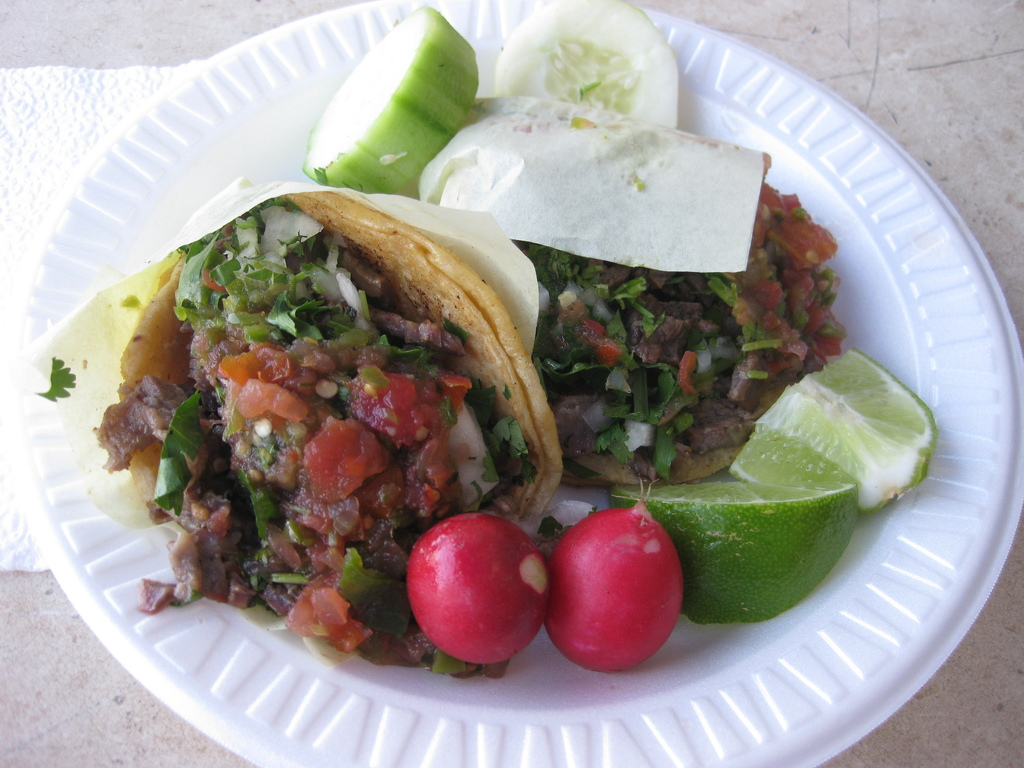taco: (90, 173, 570, 664)
